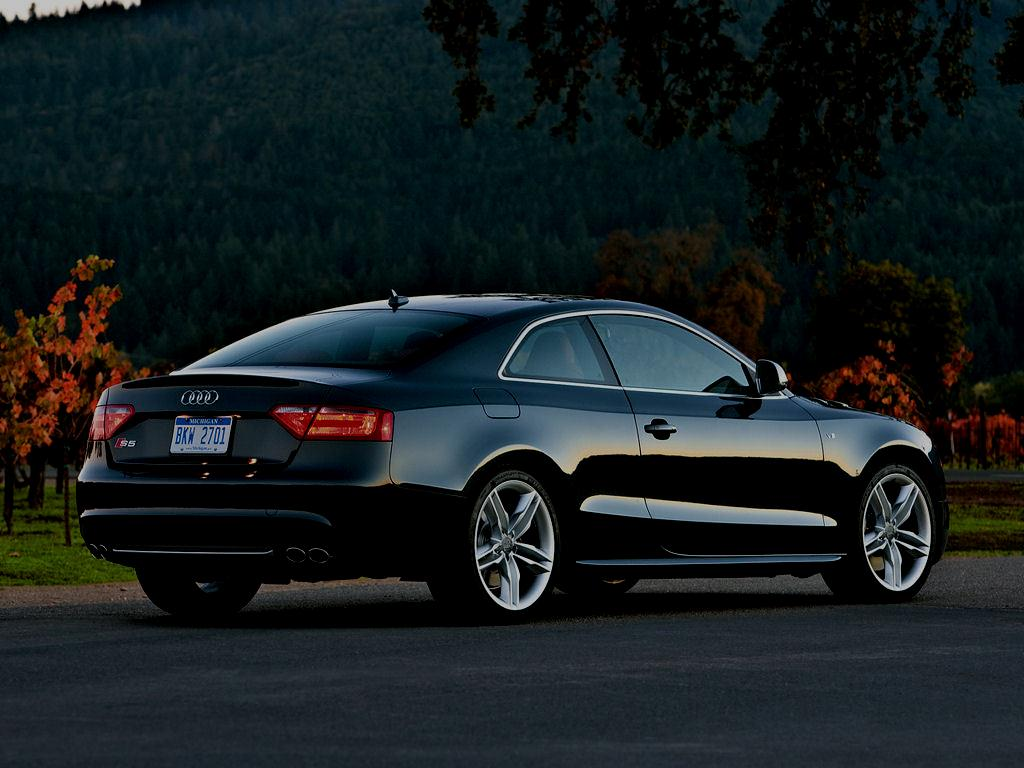Audi: (175, 378, 229, 419)
